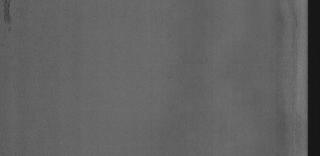water spot: (1, 0, 26, 40)
